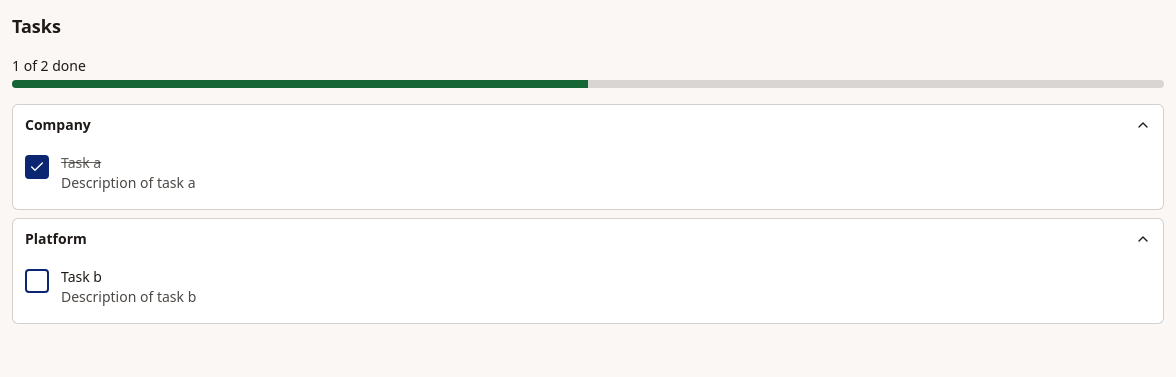
Test: TasksPanel › shows the "All done!" badge at 100%
Expected: the text "All done!" is not shown
Click the checkbox named "Task b" next to "Description of task b" at (37, 281), box [25,269,49,293]
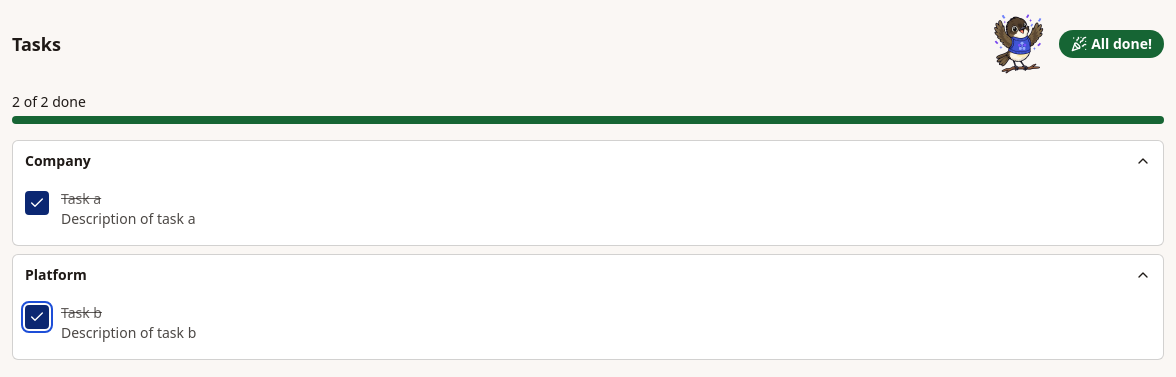
Result: the text "All done!" is shown at [1059,30,1164,58]
Result: the text "2 of 2 done" is shown at [12,92,86,111]
